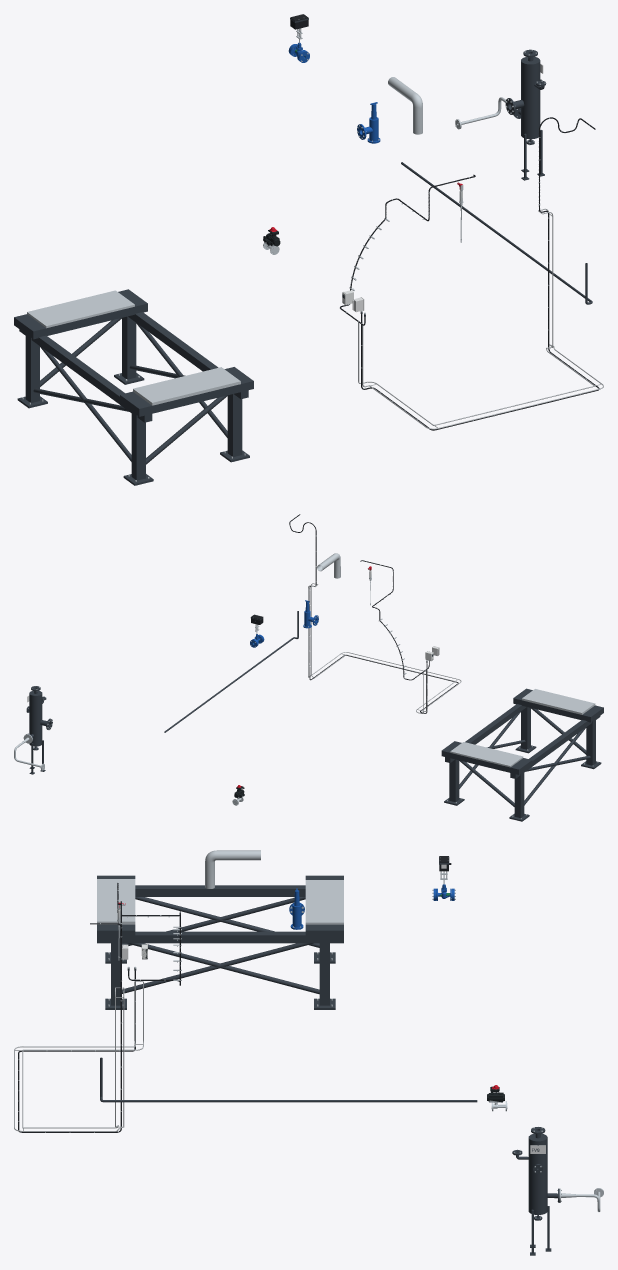
3 views of the same model, one above another, from view 1: azimuth 30°, elevation 25°; view 2: azimuth 150°, elevation 25°; view 3: azimuth 270°, elevation 25° (orthographic). The views are drawn at different scales.
Parts seen in each view (by area): view 1: deaerator_support / dark, deaerator_support / steel, separator_fv8 / dark, cables / zinc, wiring_pressure_switch_1 / black, tds_common / dark, steam_rise / steel; view 2: deaerator_support / dark, deaerator_support / steel, separator_fv8 / dark, cables / zinc, wiring_pressure_switch_1 / black; view 3: deaerator_support / dark, deaerator_support / steel, separator_fv8 / dark, cables / zinc, tds_common / dark, wiring_pressure_switch_1 / black, steam_rise / steel.
Part boxes in pixels (bbox=[...]): deaerator_support / dark: bbox=[14, 289, 253, 485]; deaerator_support / steel: bbox=[22, 290, 245, 481]; separator_fv8 / dark: bbox=[505, 49, 546, 180]; cables / zinc: bbox=[358, 208, 603, 429]; wiring_pressure_switch_1 / black: bbox=[361, 117, 599, 430]; tds_common / dark: bbox=[401, 162, 592, 304]; steam_rise / steel: bbox=[388, 77, 422, 134]; deaerator_support / dark: bbox=[441, 688, 603, 821]; deaerator_support / steel: bbox=[447, 689, 598, 819]; separator_fv8 / dark: bbox=[26, 686, 52, 774]; cables / zinc: bbox=[308, 583, 461, 713]; wiring_pressure_switch_1 / black: bbox=[289, 514, 458, 713]; deaerator_support / dark: bbox=[97, 875, 343, 1009]; deaerator_support / steel: bbox=[97, 879, 343, 1006]; separator_fv8 / dark: bbox=[512, 1127, 559, 1255]; cables / zinc: bbox=[14, 981, 143, 1131]; tds_common / dark: bbox=[100, 1057, 477, 1102]; wiring_pressure_switch_1 / black: bbox=[18, 901, 135, 1132]; steam_rise / steel: bbox=[205, 850, 260, 888].
Size of the model in its own units: 8.21 by 3.37 by 6.78.
